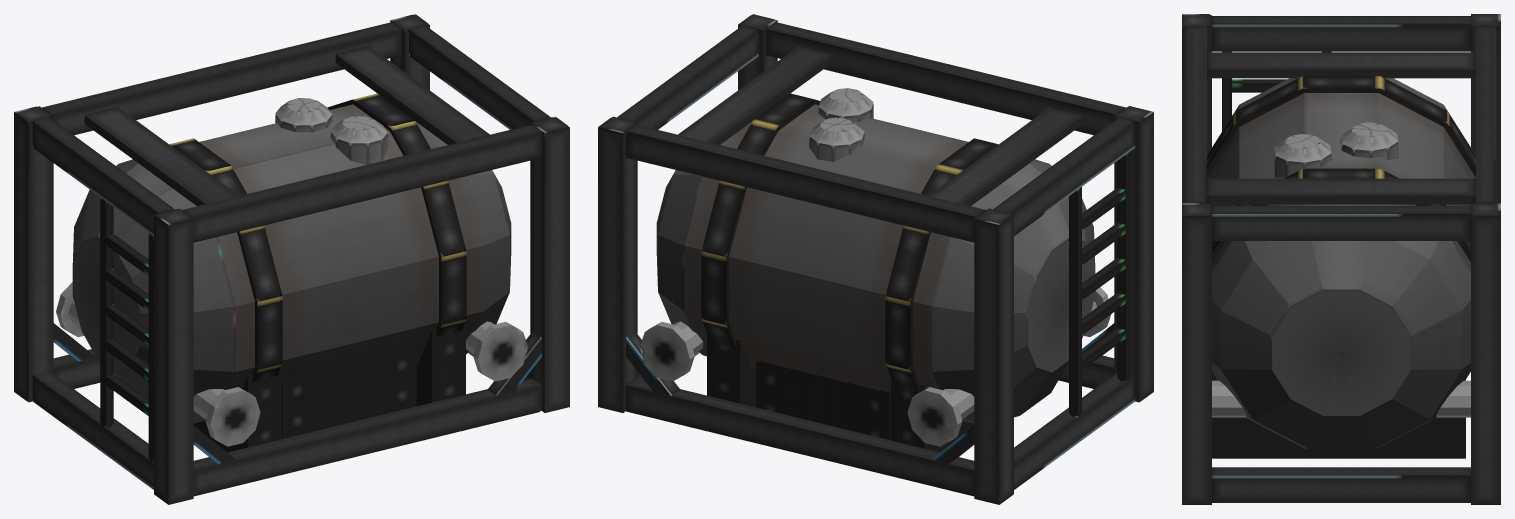
Rendered from fuel_tank_small.obj.
The picture shows the model from 3 angles, left to right: view 1: azimuth 30°, elevation 25°; view 2: azimuth 150°, elevation 25°; view 3: azimuth 270°, elevation 25°; orthographic projection. The views are drawn at different scales.
Parts seen in each view (by area): view 1: бак; view 2: бак; view 3: бак.
Part boxes in pixels (box(x1,y1,x2,y2)): бак: box(14, 14, 569, 504); бак: box(598, 14, 1153, 504); бак: box(1182, 14, 1500, 504).
Size of the model in its own units: 3 by 2 by 2.
